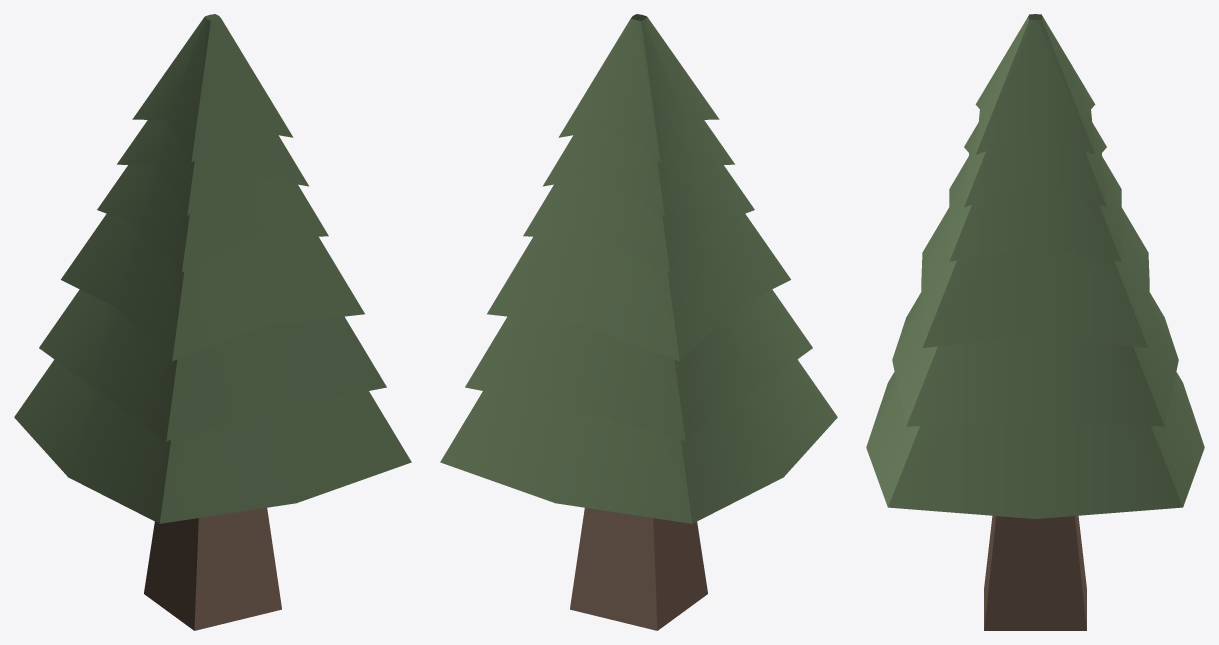
File: pine tree.fbx
The picture shows the model from 3 angles, left to right: view 1: azimuth 30°, elevation 25°; view 2: azimuth 150°, elevation 25°; view 3: azimuth 270°, elevation 25°; orthographic projection.
Visible parts, largest first — view 1: pCube40; view 2: pCube40; view 3: pCube40.
Part boxes in pixels (box(x1,y1,x2,y2)): pCube40: box(14, 14, 411, 630); pCube40: box(440, 14, 837, 630); pCube40: box(866, 14, 1204, 630).
Bounding box in the file's own units: 130 × 251 × 130.
